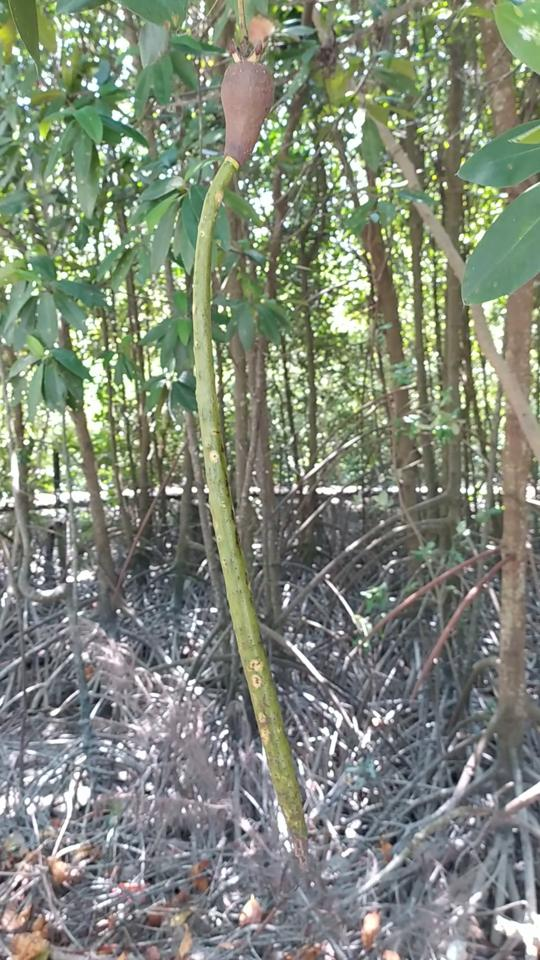setengah matang: (188, 51, 317, 877)
